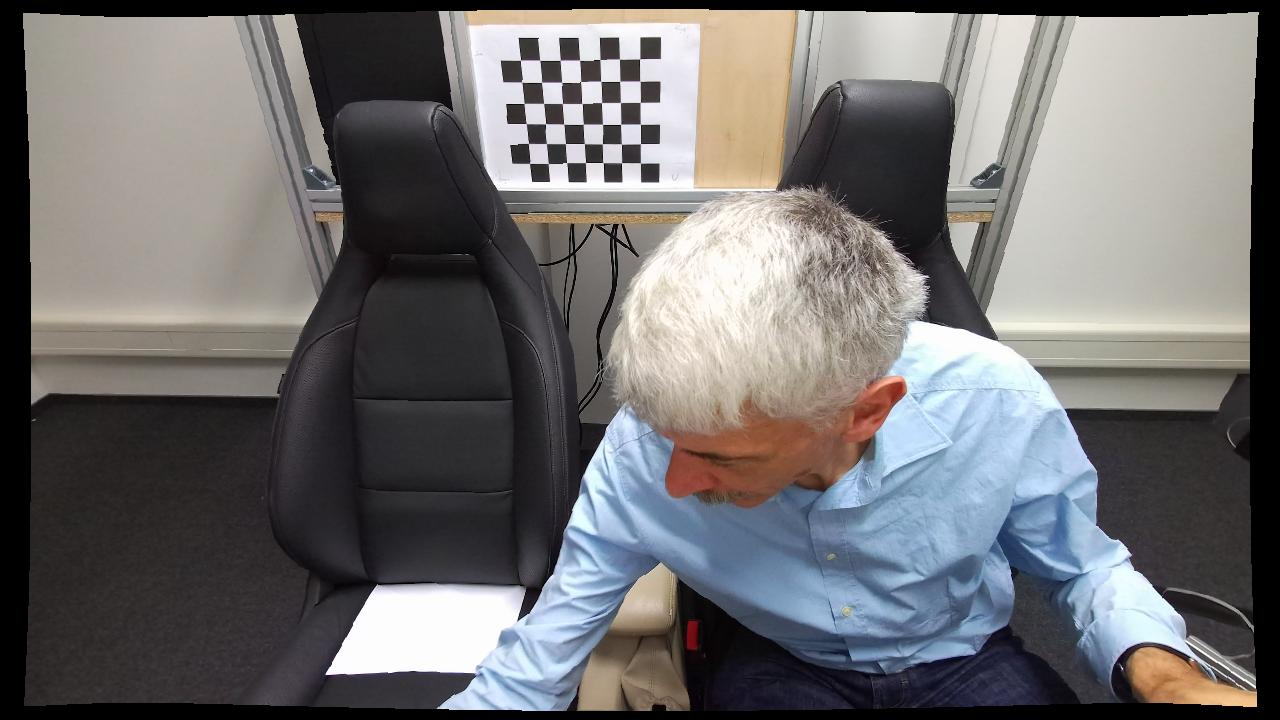Distracted: (433, 182, 1120, 710)
